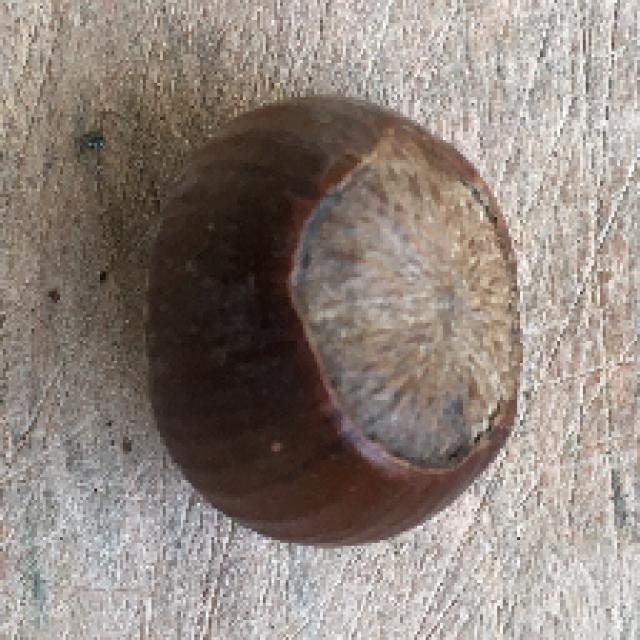damagedHazelnut: (125, 88, 535, 554)
